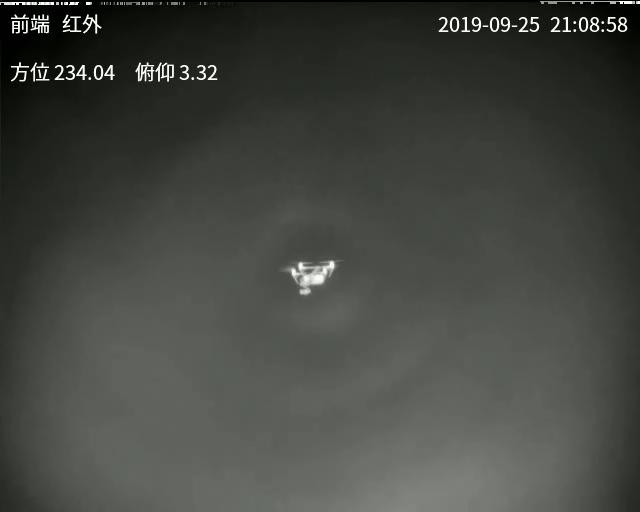uav: (286, 258, 339, 295)
